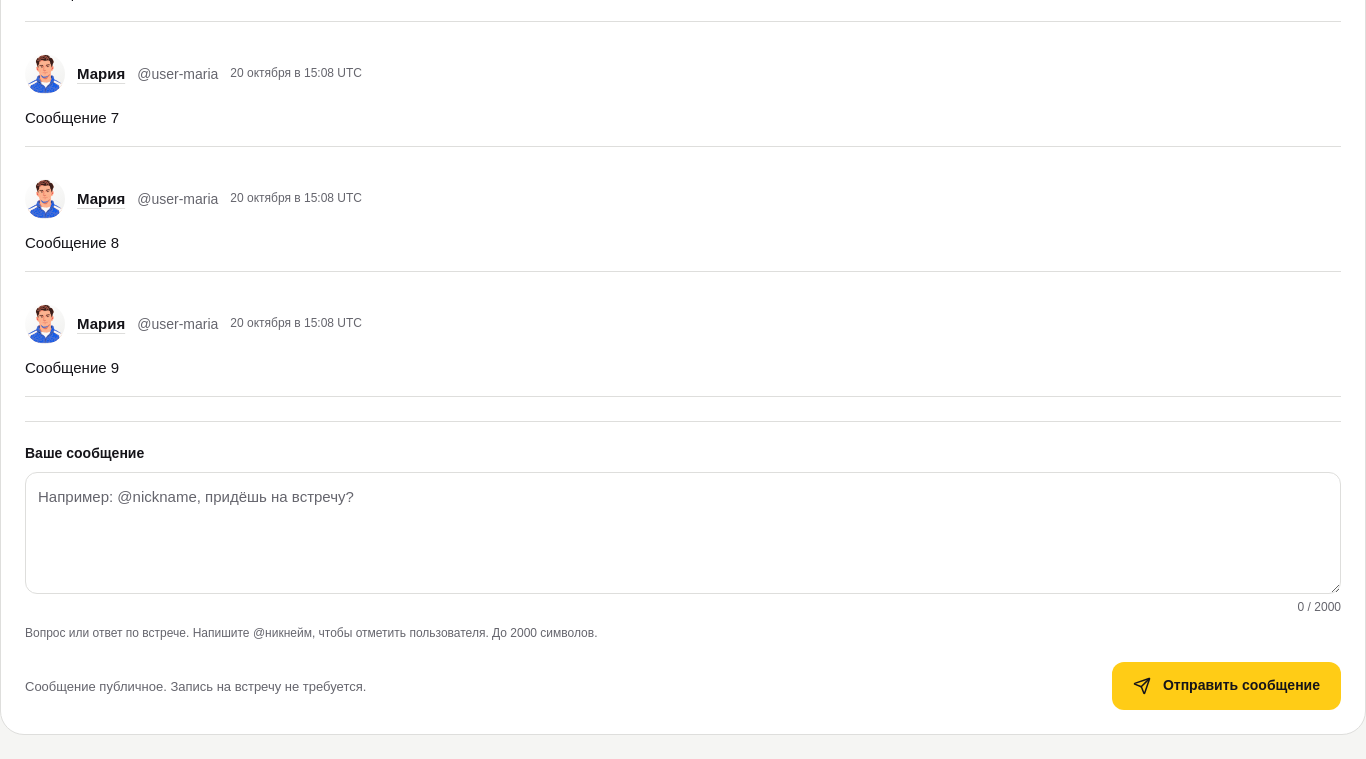
discussion UI › moves to the last server page after publishing and can return to the beginning
(page scrolled)
Type "Новый вопрос" into the text box at (683, 533), box [25,472,1341,594]
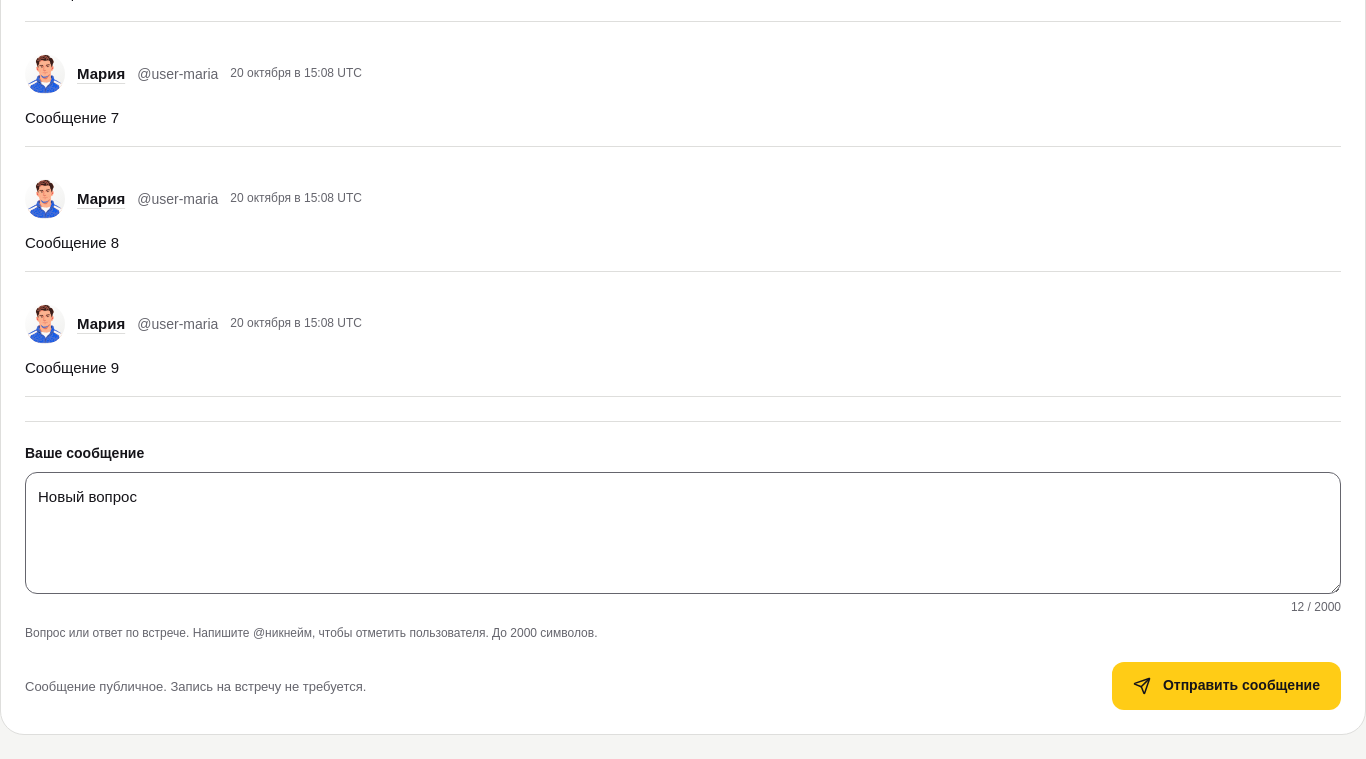
Click the button "Отправить сообщение" at (1226, 686), box [1112,662,1341,710]
(page scrolled)
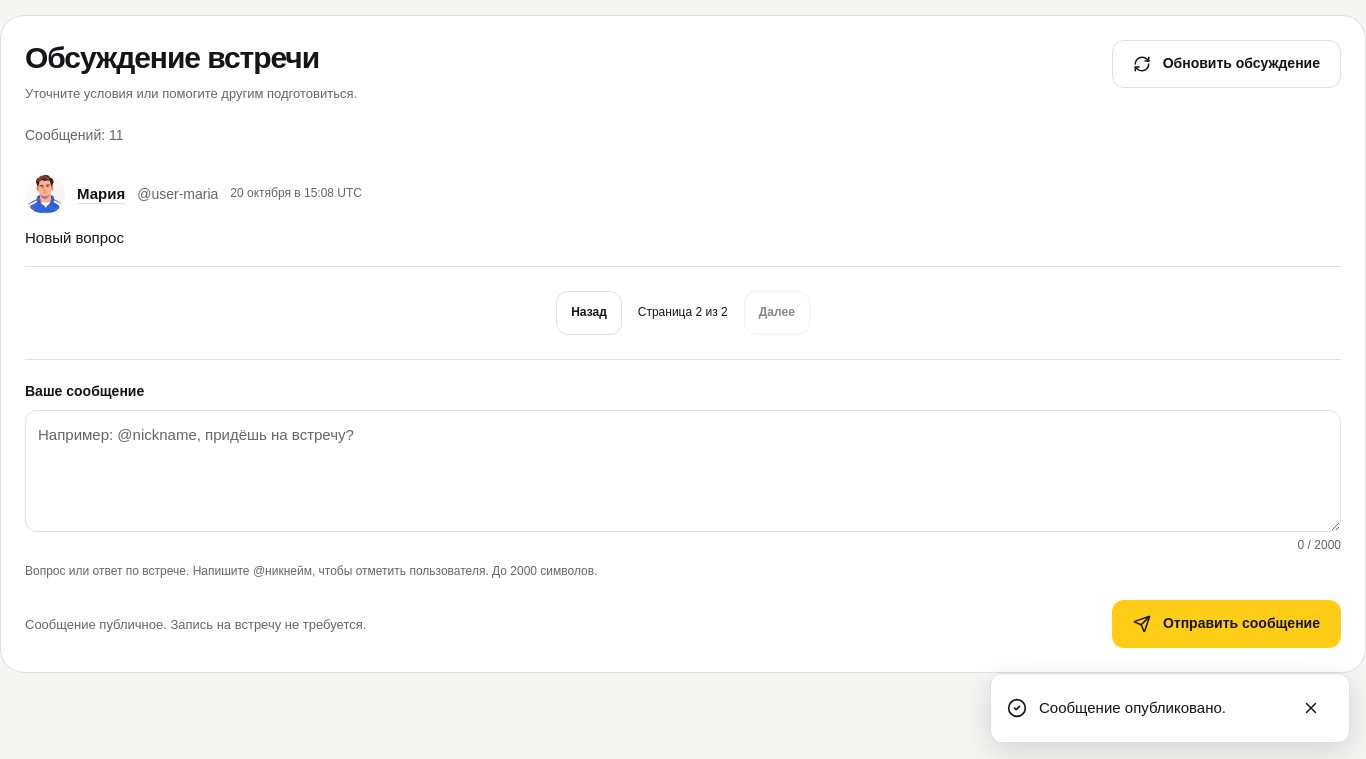
Expected: the text "Страница 2 из 2" is shown, [638,303,728,322]
Expected: the text "Новый вопрос" is shown, [25,229,124,246]
Expected: the number of list items is 1, [25,158,1341,267]
Click the button "Назад" at (589, 313), box [556,291,622,335]
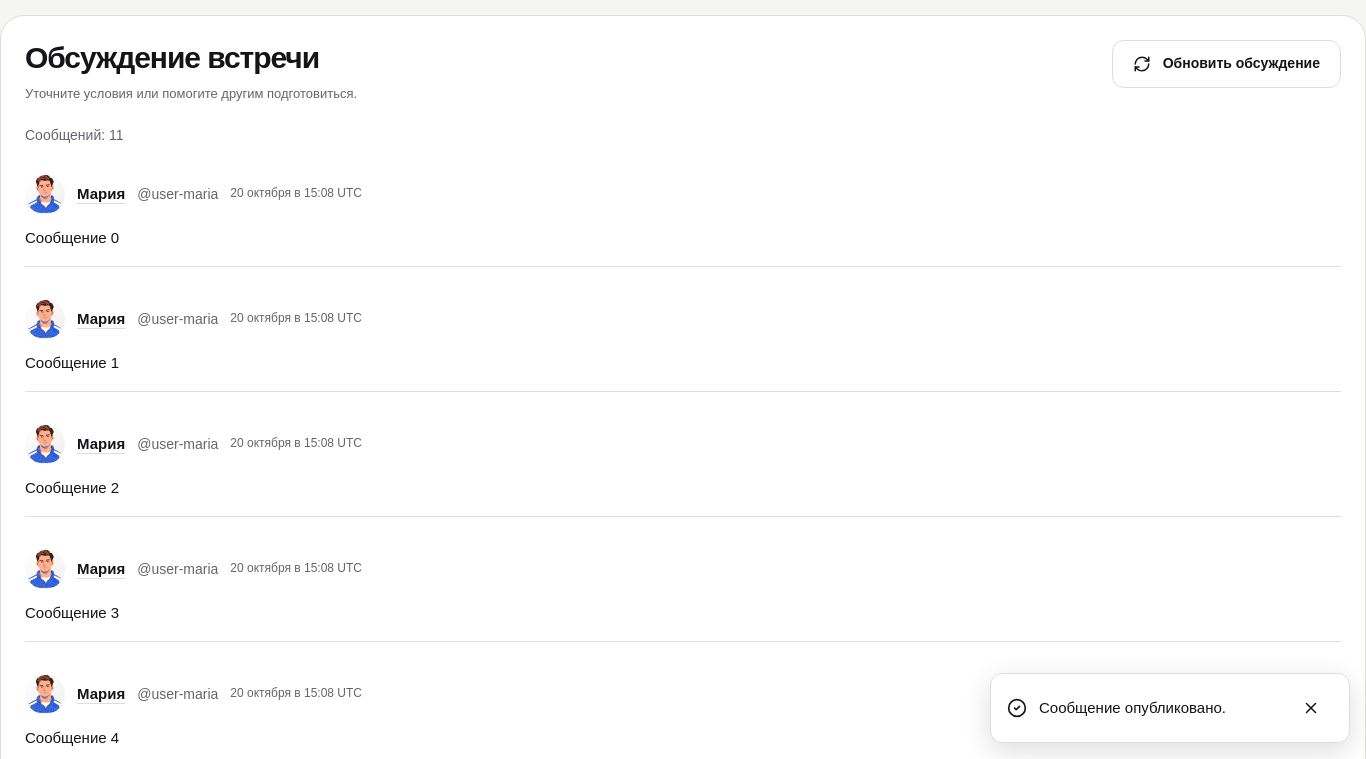
Expected: the text "Сообщение 0" is shown, [25,229,119,246]
